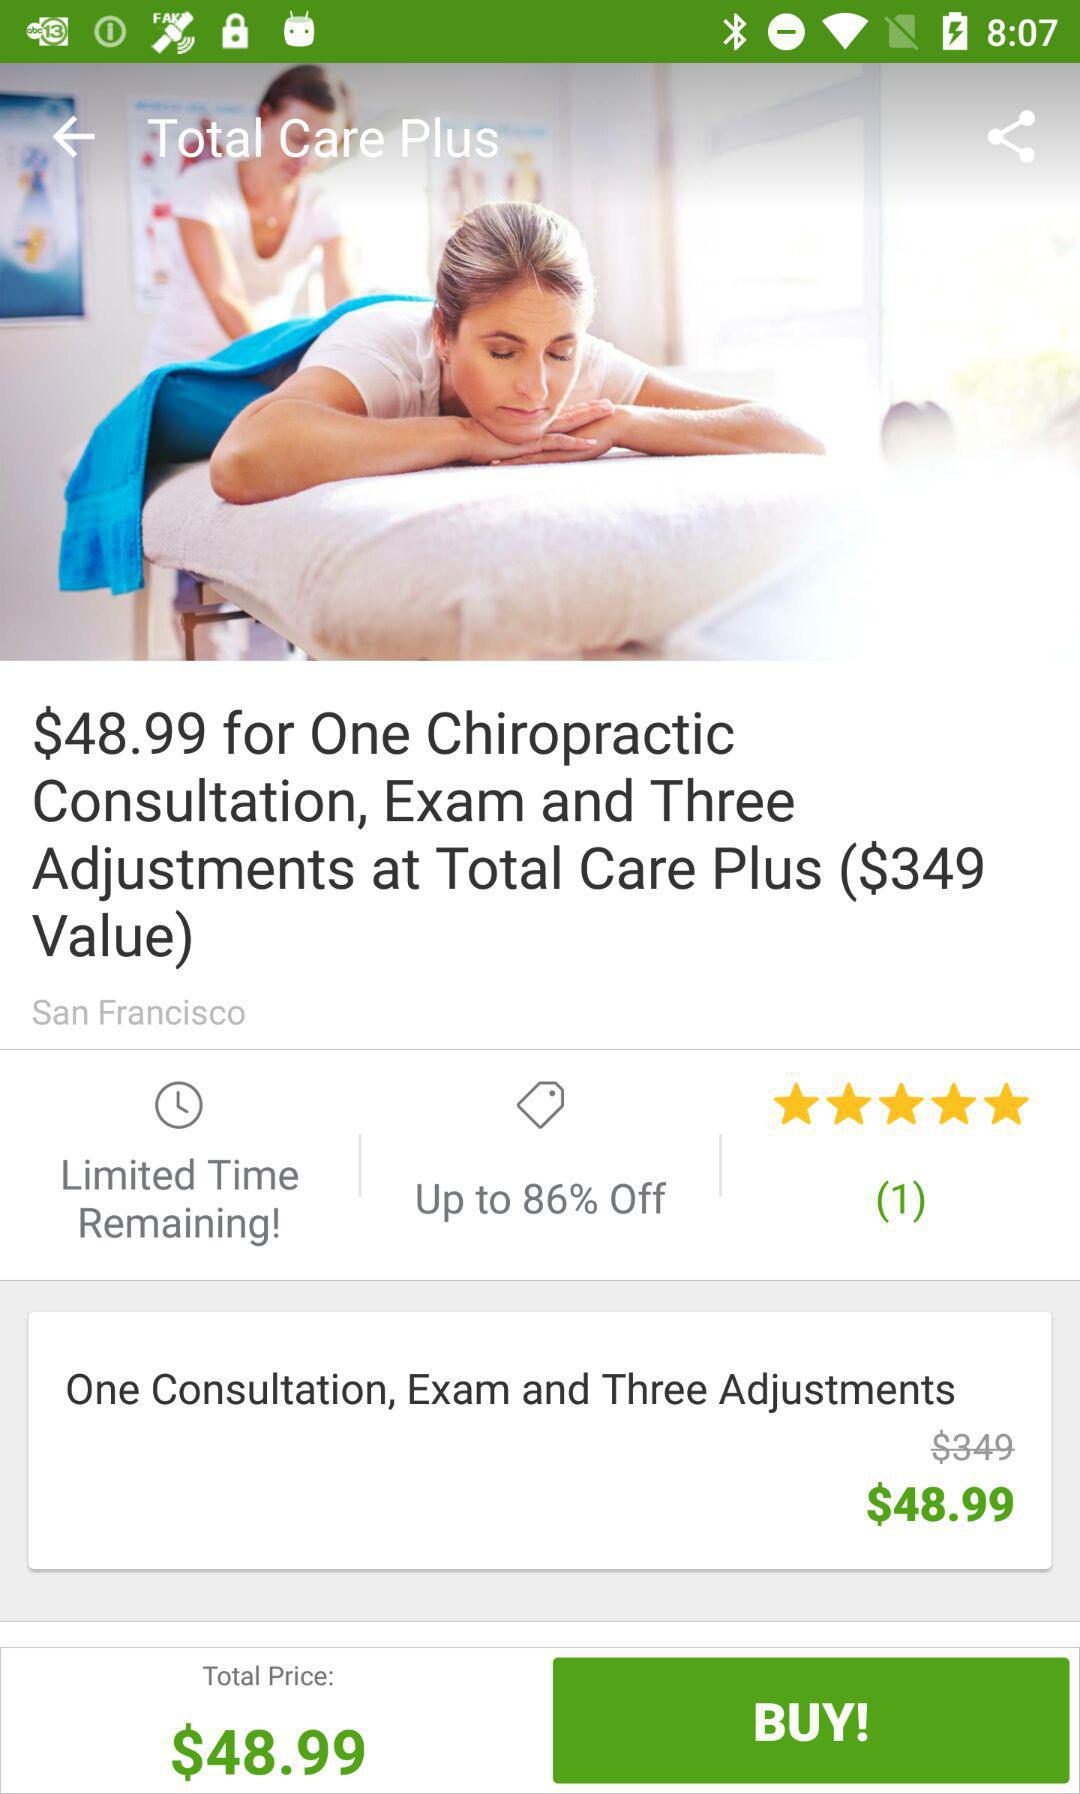Card: (26, 1308, 1057, 1574)
Icon: (773, 1082, 1030, 1126), (986, 110, 1036, 167), (155, 1082, 204, 1130), (518, 1082, 565, 1130), (53, 115, 97, 160)
Image: (1, 64, 1080, 662)
Text: (33, 706, 984, 971), (68, 1371, 954, 1413), (63, 1157, 299, 1247), (147, 117, 500, 161), (173, 1722, 366, 1782), (416, 1181, 667, 1222), (867, 1483, 1013, 1527), (33, 1000, 247, 1026), (930, 1429, 1015, 1465), (202, 1665, 334, 1686), (878, 1179, 925, 1224)
TextButton: (552, 1657, 1070, 1784)
UpperTaskBar: (1, 1, 1080, 64)
